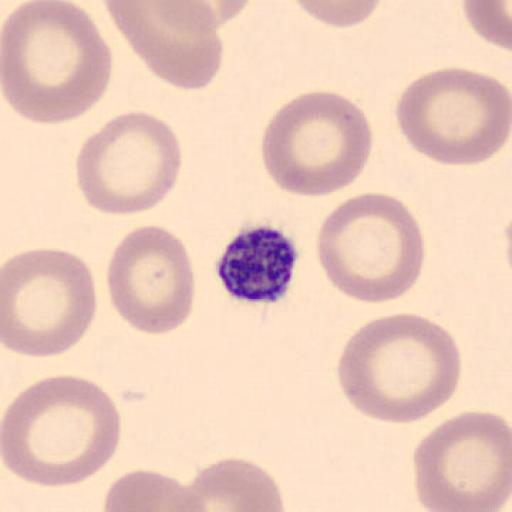Platelet: (212, 222, 300, 306)
RBC: (336, 310, 463, 424), (0, 0, 114, 127), (2, 372, 122, 488), (315, 192, 427, 306), (260, 89, 374, 199), (394, 66, 512, 167), (74, 109, 183, 217), (102, 0, 225, 92), (2, 247, 98, 358), (412, 409, 511, 512), (106, 224, 196, 336), (184, 455, 286, 512), (100, 468, 211, 512), (147, 0, 253, 31), (292, 0, 384, 30), (461, 0, 512, 52), (190, 0, 252, 28), (206, 0, 251, 27)
